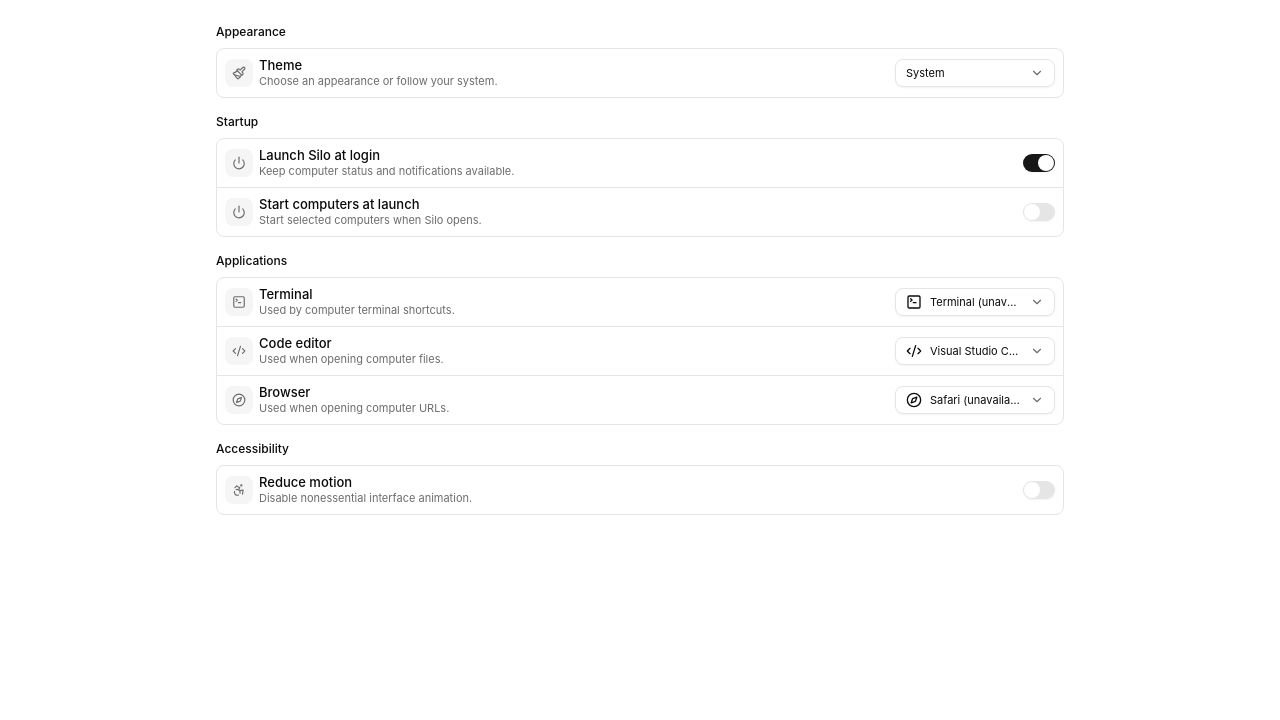
Test: still changes appearance when saving the preference is unavailable
What coordinates should you click on to do the following:
click the dropdown named "Theme"
I would click on:
 (975, 73)
Its box is [895,59,1055,87].
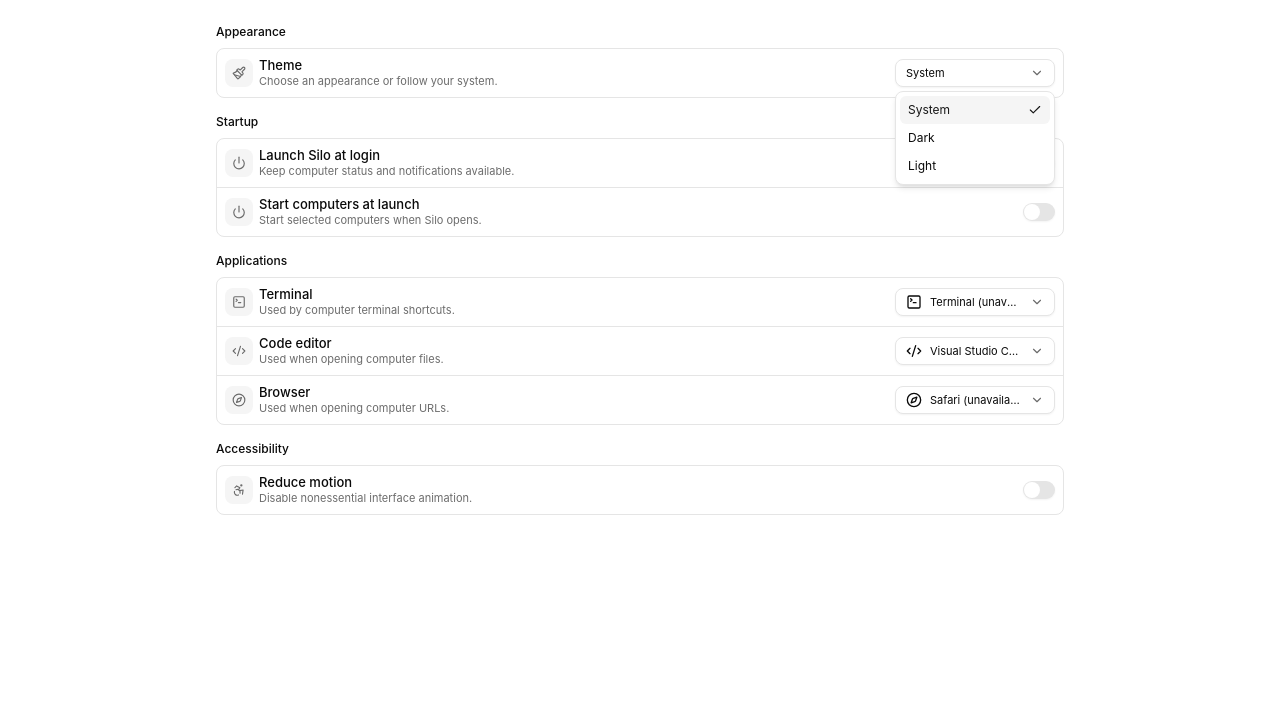
What coordinates should you click on to do the following:
click the option "Dark"
I would click on:
 (921, 138)
Its box is [908,130,935,145].
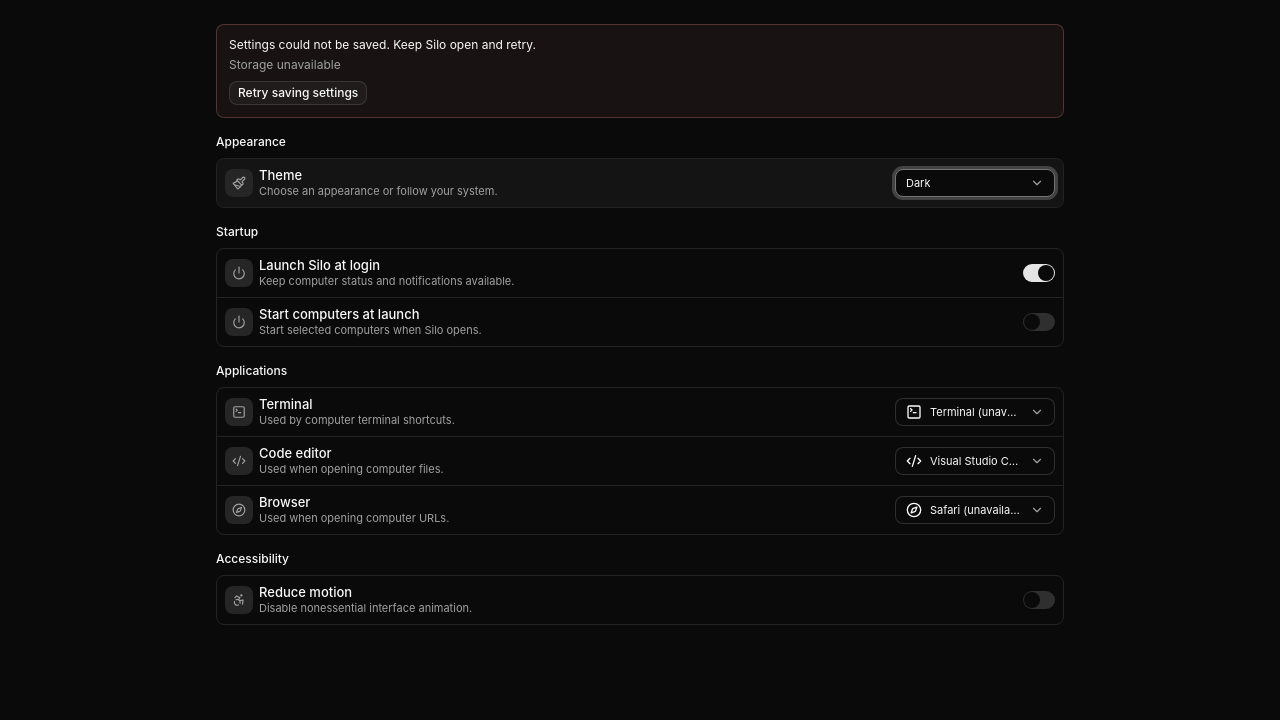
Result: the dropdown named "Theme" reads "Dark" at [895,169,1055,197]
Result: the text "Storage unavailable" is shown at [229,57,341,72]
